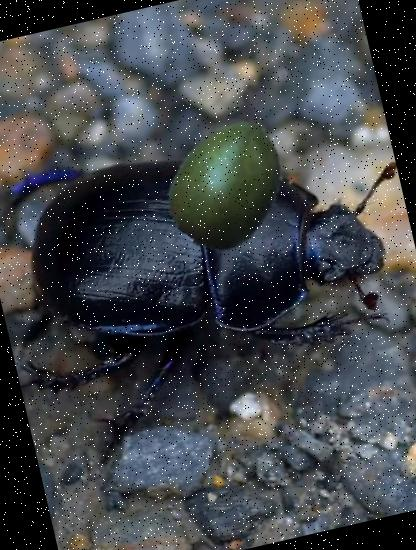Mango: (149, 106, 309, 266)
